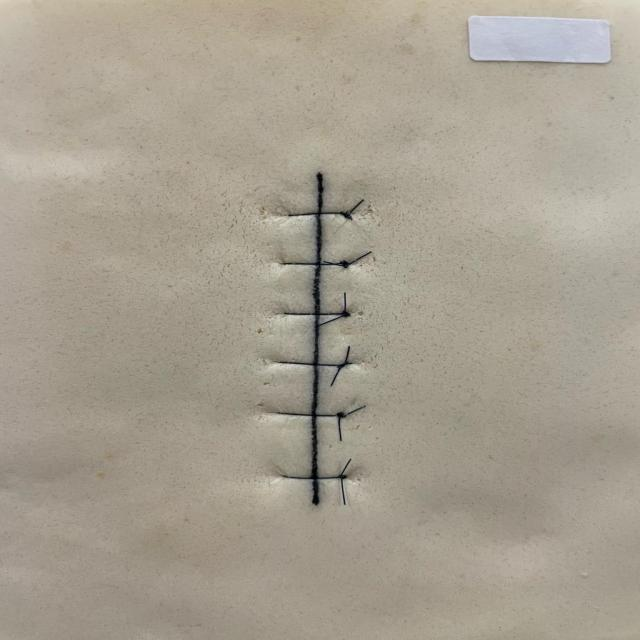knot: (338, 210, 354, 221), (338, 258, 352, 270), (335, 360, 351, 370), (334, 410, 348, 419), (339, 309, 353, 318), (336, 473, 349, 481)
leftover: (313, 313, 345, 328), (346, 250, 373, 266), (343, 404, 367, 417), (329, 365, 343, 387), (338, 457, 353, 477), (348, 198, 365, 215), (339, 476, 346, 506), (321, 260, 347, 268), (342, 345, 351, 364), (337, 415, 342, 442), (342, 291, 347, 313), (349, 216, 353, 221)
stitch: (277, 361, 345, 367), (276, 411, 340, 417), (281, 474, 343, 480), (287, 211, 346, 217), (281, 261, 345, 265), (283, 312, 345, 315)
wound: (311, 171, 322, 506)
